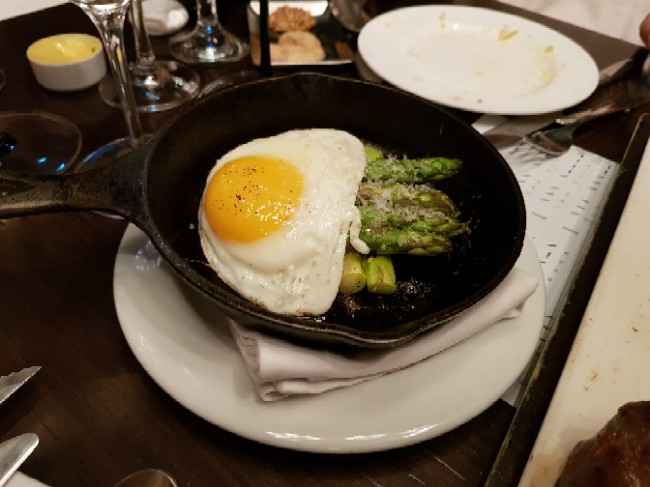fried egg: (200, 140, 354, 288)
